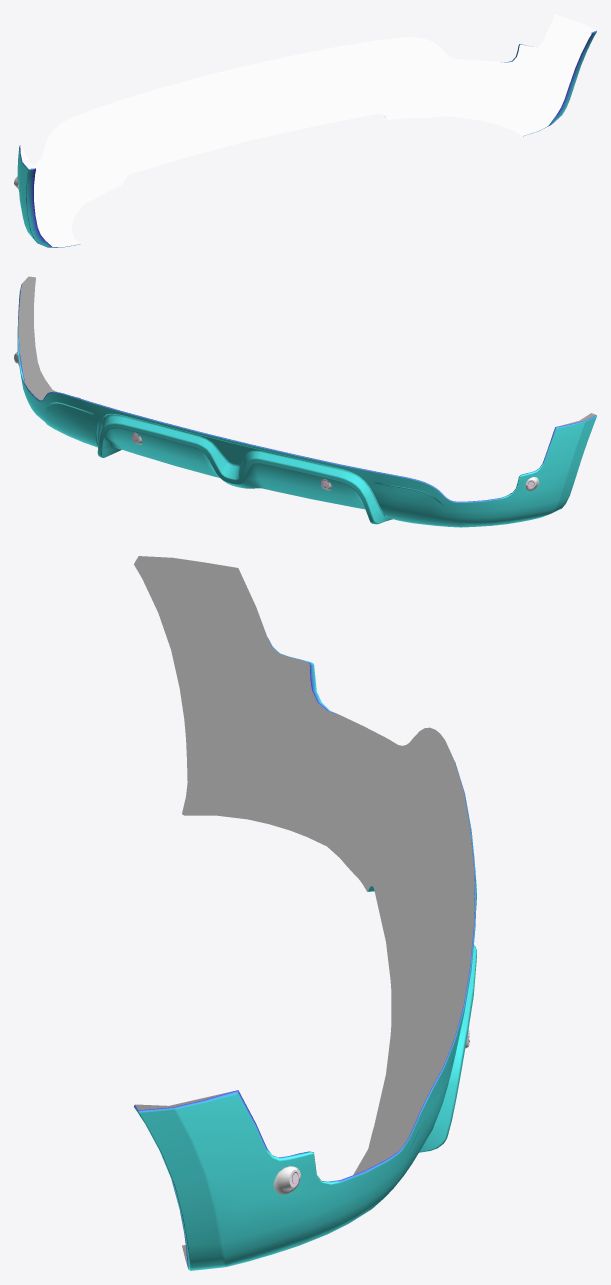
File: Car_Mini_CountrymanJCW_2017_Diffuser_SetA_AltD.fbx
The picture shows the model from 3 angles, top to bottom: view 1: azimuth 30°, elevation 25°; view 2: azimuth 150°, elevation 25°; view 3: azimuth 270°, elevation 25°; orthographic projection. The views are drawn at different scales.
Visible parts, largest first — view 1: Diffuser 6; view 2: Diffuser 6; view 3: Diffuser 6.
Boxes of the visible parts, x1,y1,x2,y2 form: Diffuser 6: (14, 14, 596, 247); Diffuser 6: (14, 276, 596, 527); Diffuser 6: (134, 556, 476, 1270).
Size of the model in its own units: 1.75 by 0.2966 by 0.4561.
